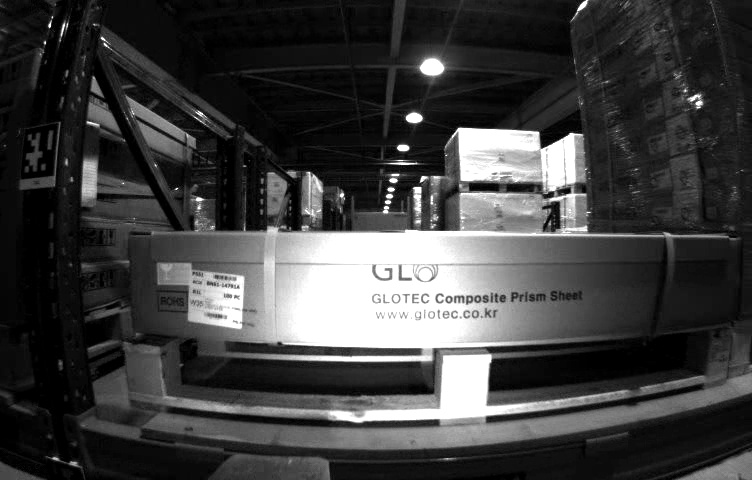True Barcode: (186, 267, 246, 335)
